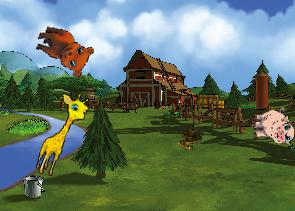bear: (29, 23, 96, 79)
giraffe: (32, 87, 93, 182)
pig: (251, 107, 294, 147)
